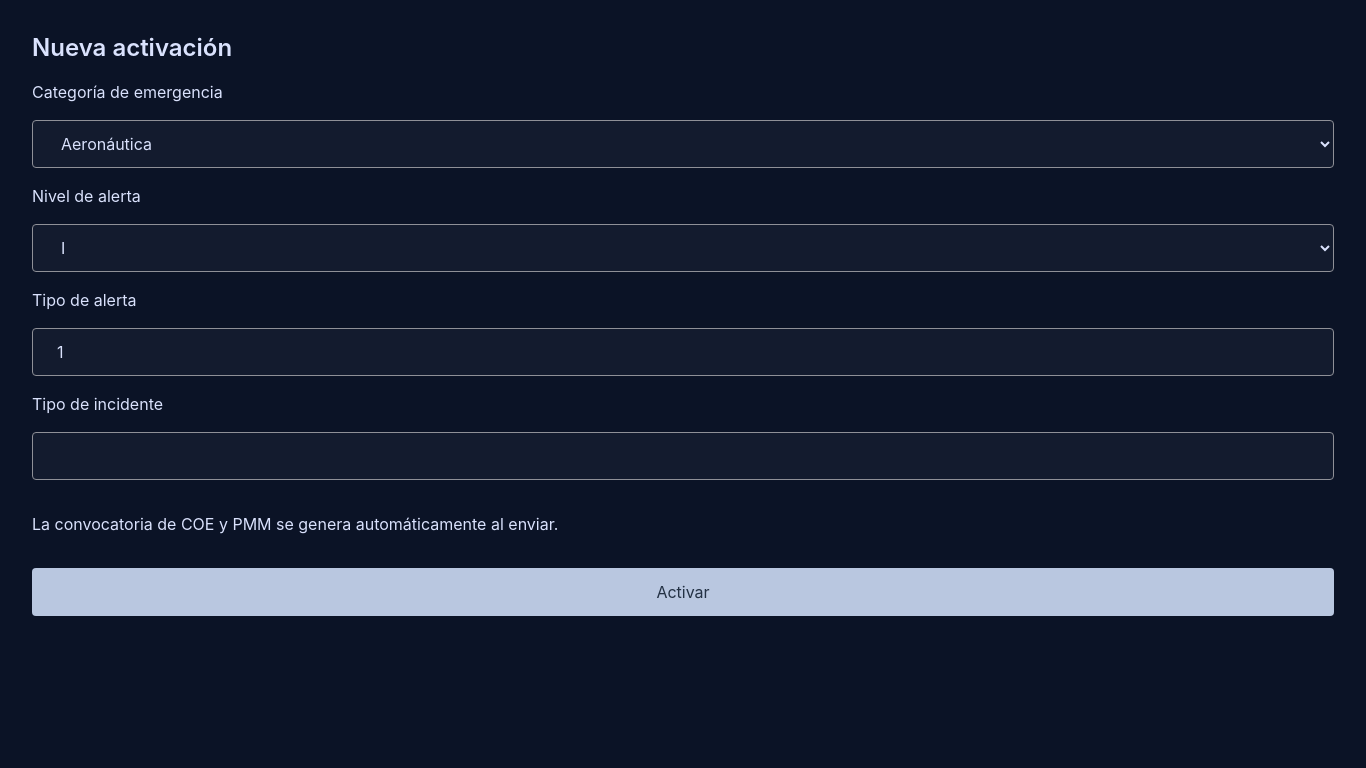
Test: NuevaActivacionScreen › si ya hay una activación en curso (409), muestra el error del backend en vez de crashear
The width and height of the screenshot is (1366, 768).
In the field labelled "Tipo de incidente": (683, 456) [32, 432, 1334, 480], type "incendio en pista"
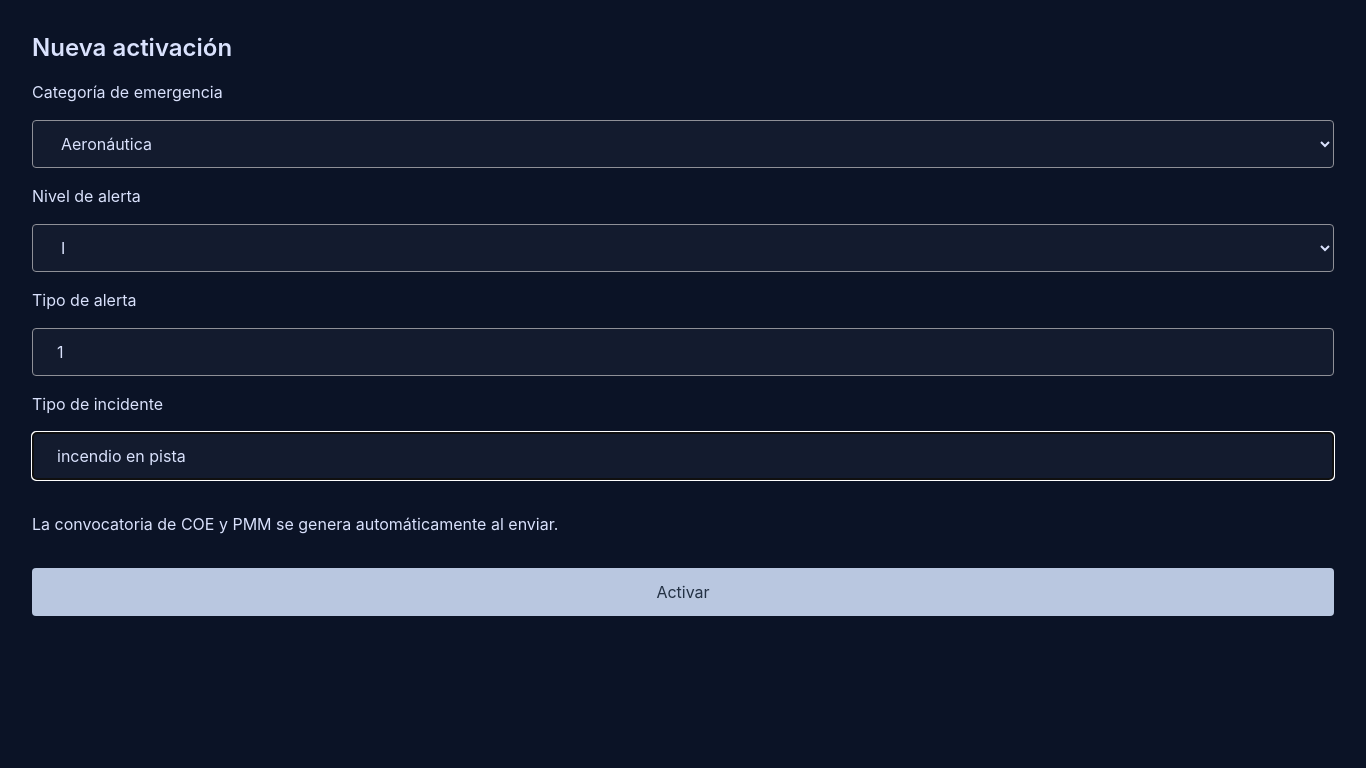
Click the button "Activar": click(683, 592) [32, 568, 1334, 616]
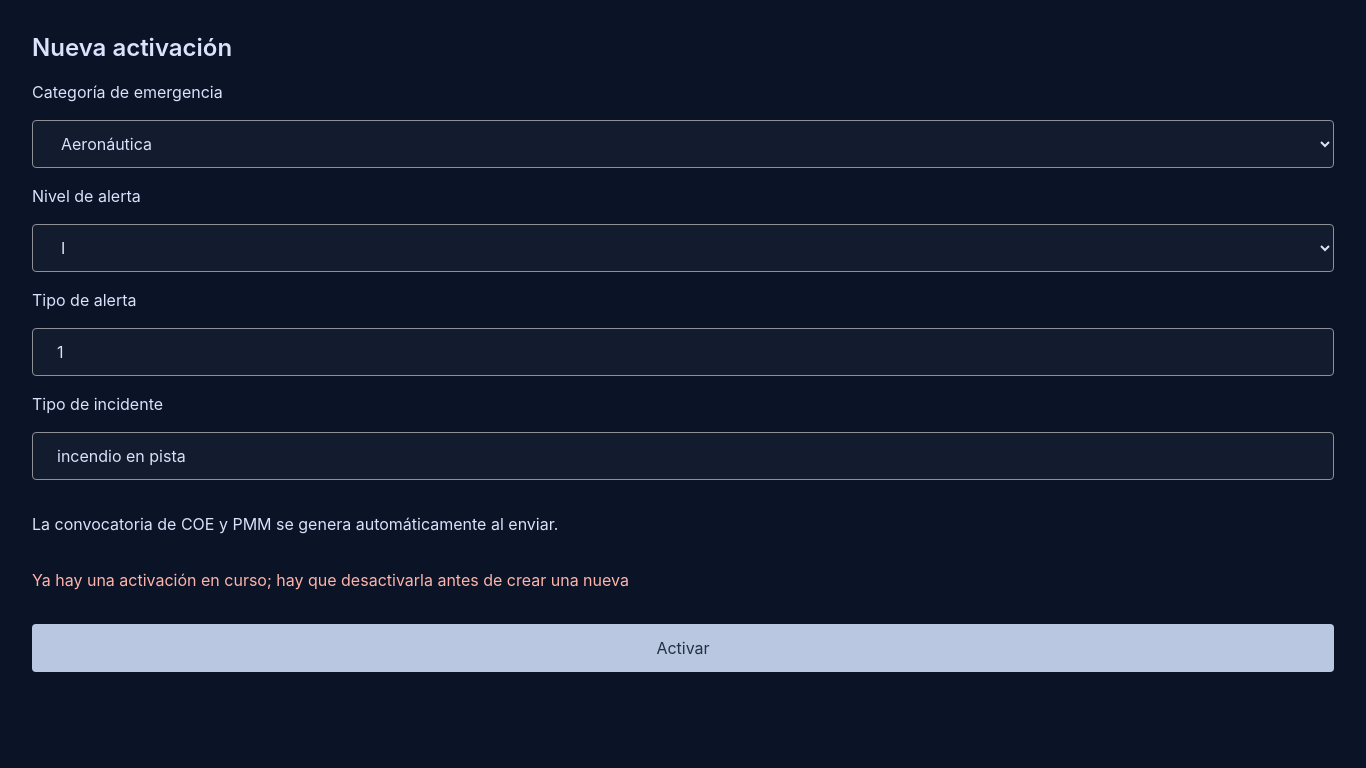
Result: the message reads "Ya hay una activación en curso; hay que desactivarla antes de crear una nueva" at [32, 570, 629, 590]
